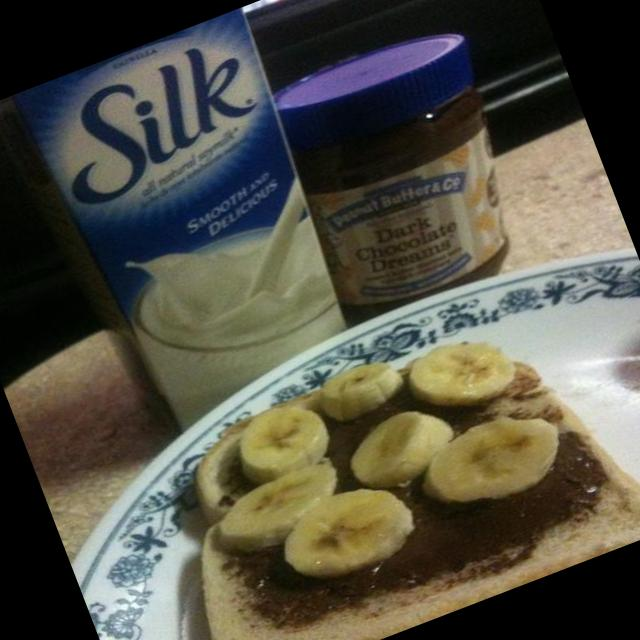banana: (173, 304, 582, 614)
bottle: (257, 20, 548, 334)
diningtable: (0, 118, 640, 558)
sandwich: (134, 277, 640, 640)
